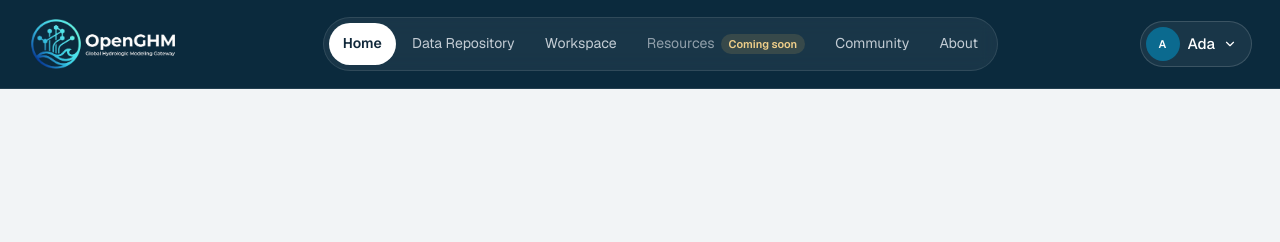
Test case: the header's account menu › opens on a click, with My Profile and Sign out in it
This screenshot has width=1280, height=242.
Press the mouse on the button "A Ada" at coordinates (1196, 44), box 1140,21 -> 1252,67
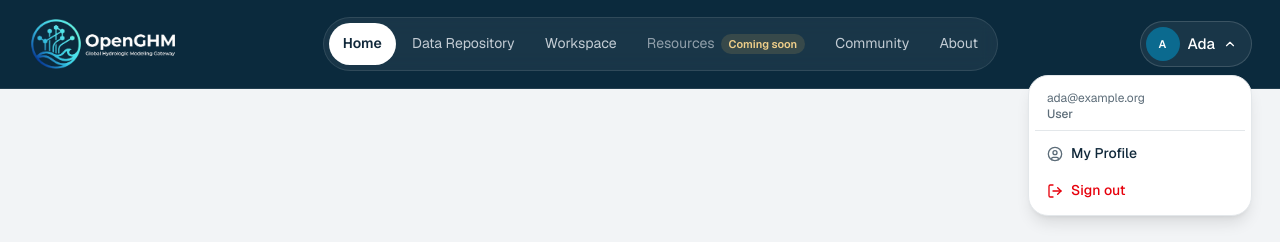
Check: the button "A Ada" is expanded, box 1140,21 -> 1252,67
Check: the menu item "Sign out" is shown, box 1047,181 -> 1126,199
